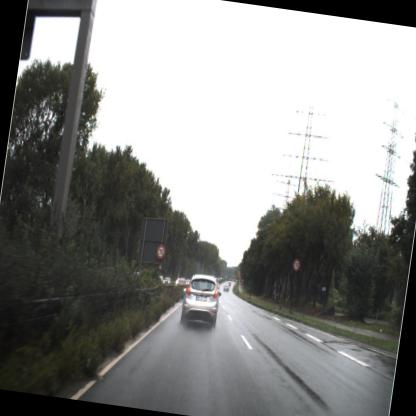prohibitory: (153, 242, 168, 264), (289, 254, 302, 274)
